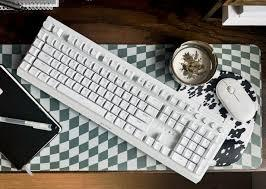keyboard: (15, 14, 234, 184)
